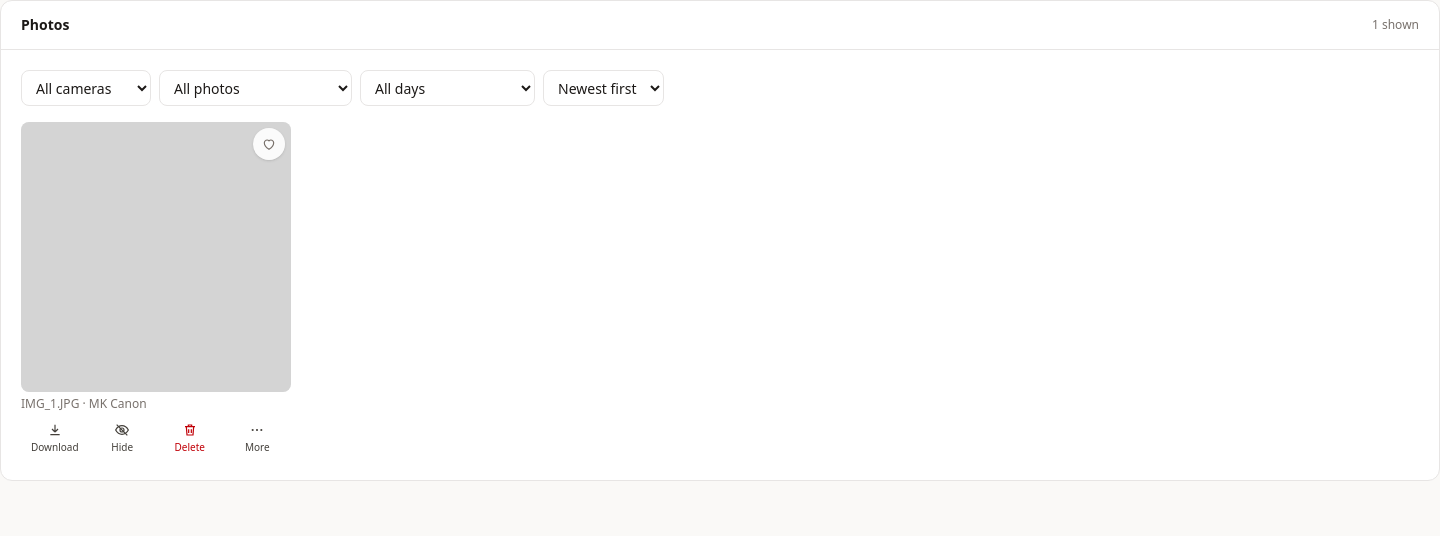
Scenario: Dashboard photos › shows Download, Hide and Delete on every photo, and Make cover under More
Expected: the button "Download" is shown, left=21, top=416, right=88, bottom=460
Expected: the button with aria-label "Hide from gallery" is shown, left=88, top=416, right=156, bottom=460
Click the button "More". click: (257, 438)
box: left=224, top=416, right=291, bottom=460
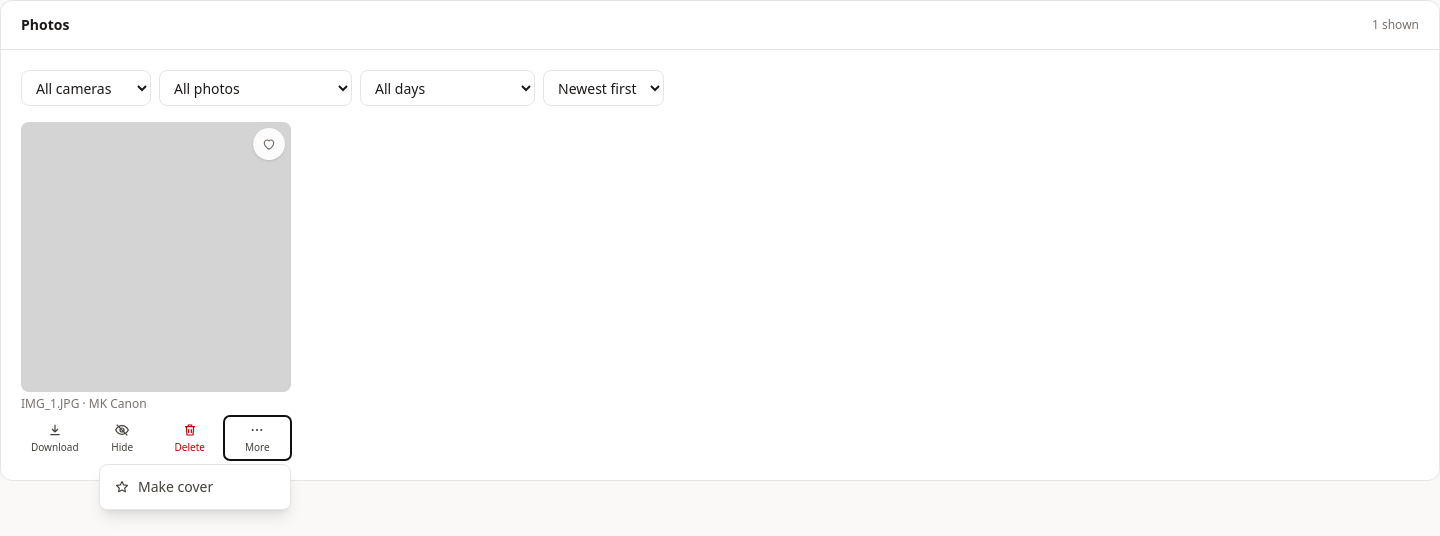
Click the menu item "Make cover". click: (195, 487)
box: left=104, top=469, right=286, bottom=505
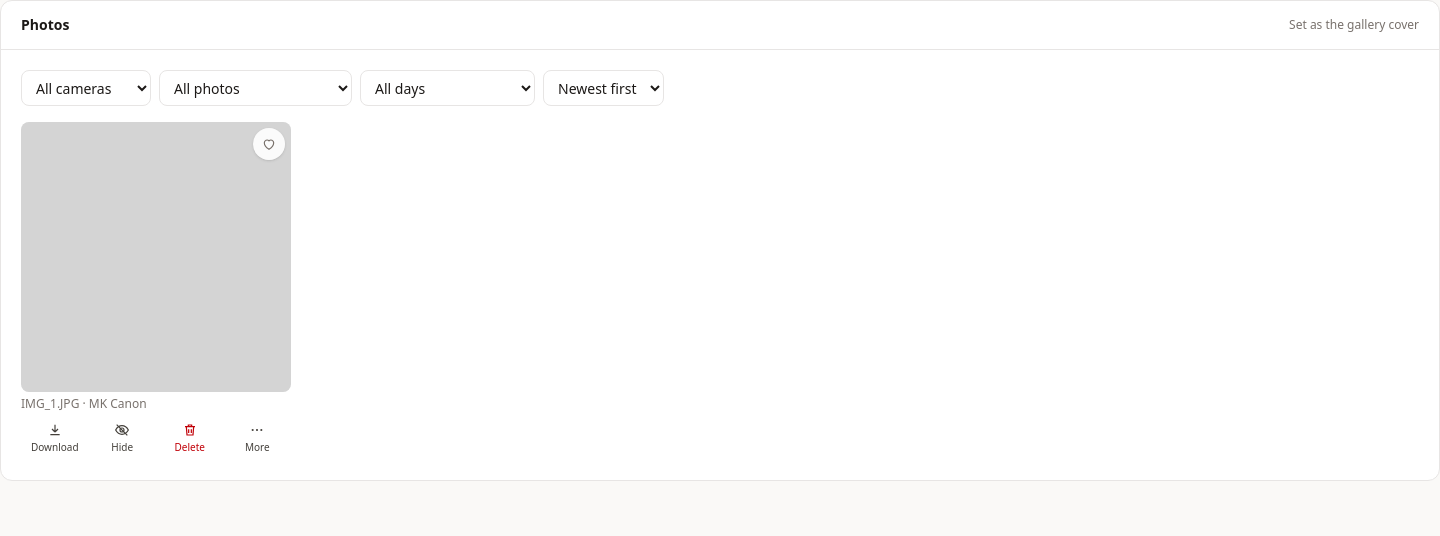
Expected: the menu is gone
